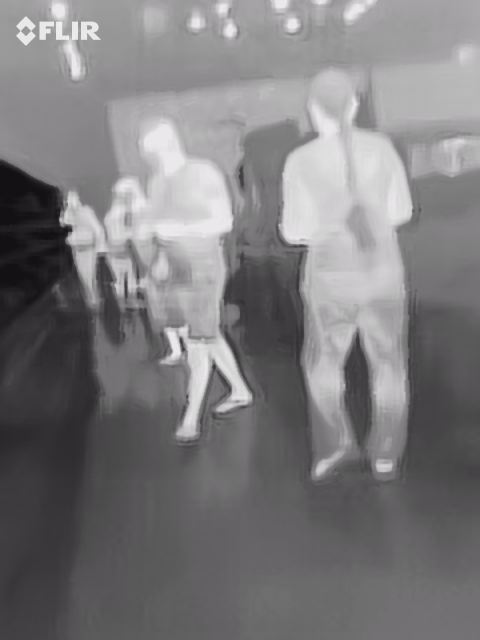head: (304, 70, 361, 137), (138, 114, 182, 170)
